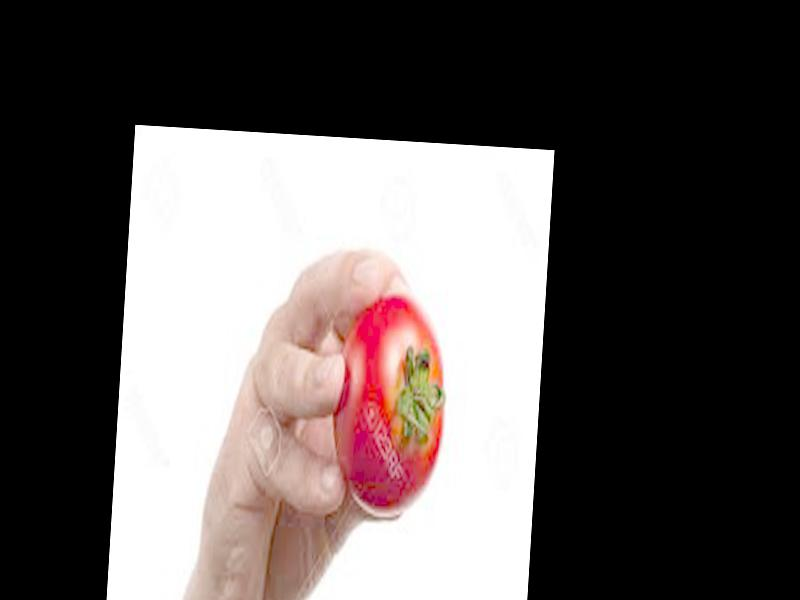Tomato: (329, 291, 452, 517)
